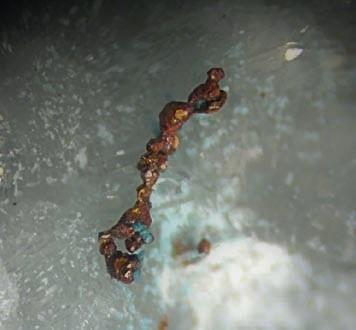copper: (99, 68, 227, 284)
